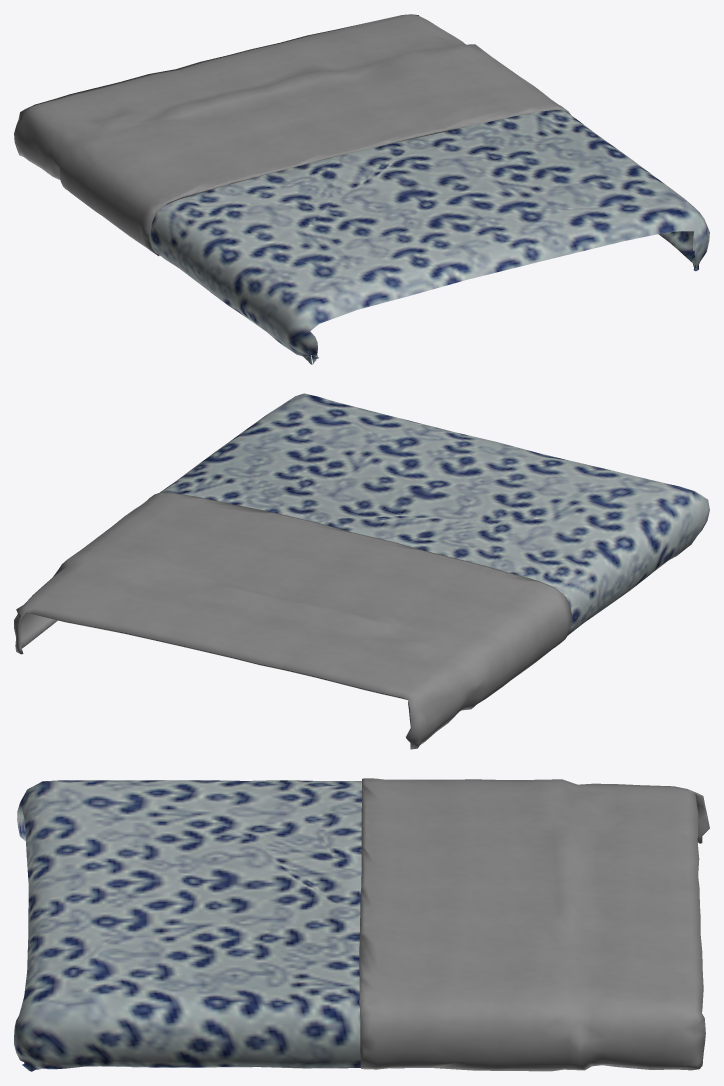
The model's file is bedsheet_1.fbx.
The picture shows the model from 3 angles, top to bottom: view 1: azimuth 30°, elevation 25°; view 2: azimuth 150°, elevation 25°; view 3: azimuth 270°, elevation 25°; orthographic projection. The views are drawn at different scales.
Visible parts, largest first — view 1: bedsheet_1; view 2: bedsheet_1; view 3: bedsheet_1.
Boxes of the visible parts, left/top/right/bottom form: bedsheet_1: left=14, top=14, right=709, bottom=364; bedsheet_1: left=14, top=393, right=709, bottom=749; bedsheet_1: left=14, top=778, right=709, bottom=1071.
Size of the model in its own units: 1.85 by 0.281 by 2.21.
